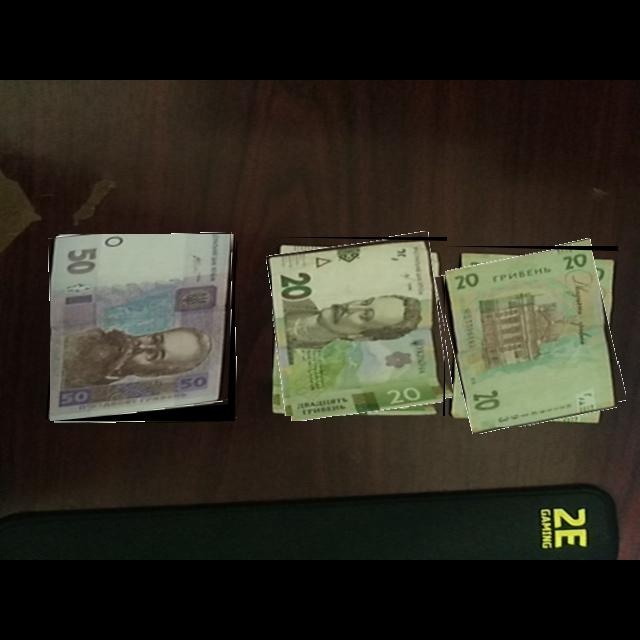20uah: (272, 237, 448, 417), (445, 246, 619, 428)
50uah: (50, 234, 236, 422)
